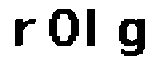0: (45, 4, 80, 50)
g: (115, 15, 148, 60)
l: (82, 6, 105, 50)
r: (9, 15, 38, 47)
